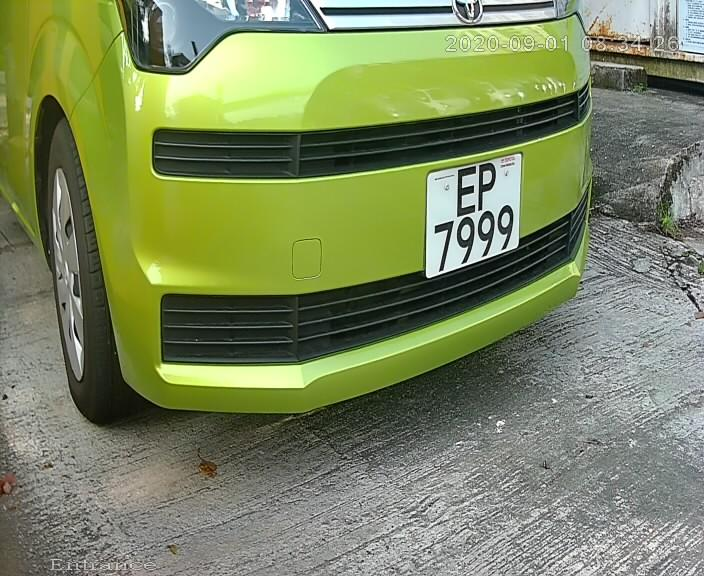License Plate: (419, 142, 529, 286)
